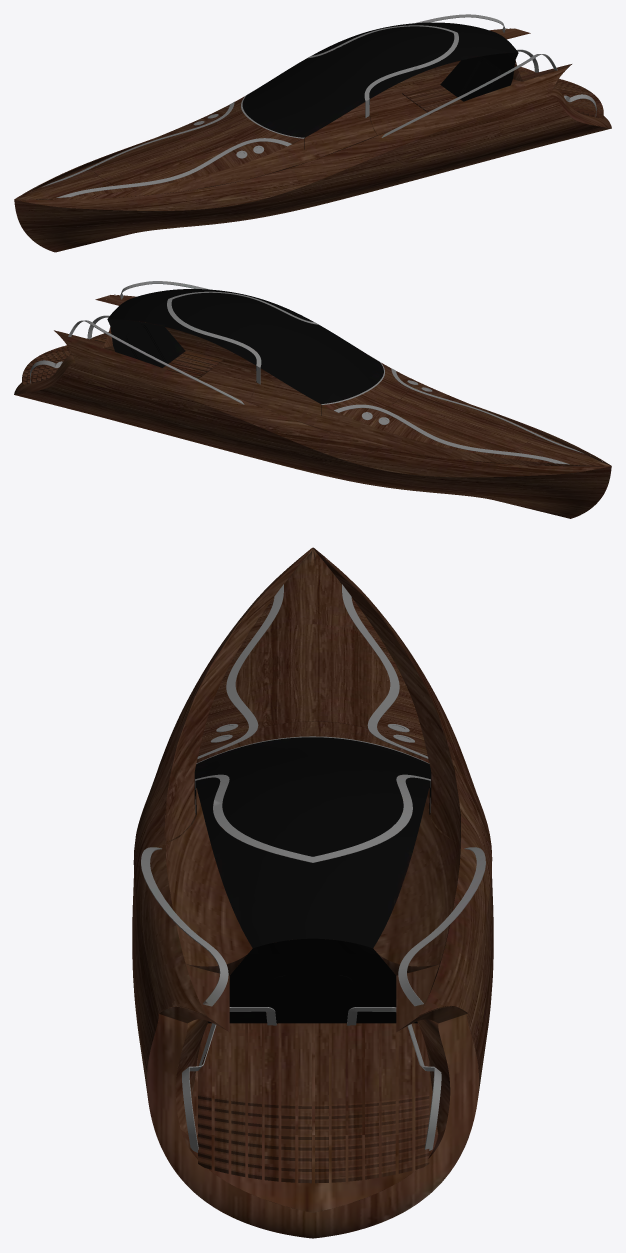
File: deco_yate.glb
3 renders of one model, top to bottom at view 1: azimuth 30°, elevation 25°; view 2: azimuth 150°, elevation 25°; view 3: azimuth 270°, elevation 25°, orthographic. The views are drawn at different scales.
Parts seen in each view (by area): view 1: Object_7, Object_4, Object_6, Object_3, Object_9, Object_2, Object_8, Object_11, Object_12; view 2: Object_7, Object_4, Object_6, Object_3, Object_9, Object_2, Object_8, Object_11, Object_12; view 3: Object_7, Object_4, Object_9, Object_6, Object_3, Object_8, Object_10, Object_2, Object_5.
Part boxes in pixels (bbox=[...]): Object_7: bbox=[14, 28, 610, 252]; Object_4: bbox=[242, 22, 518, 137]; Object_6: bbox=[15, 96, 302, 199]; Object_3: bbox=[19, 25, 521, 197]; Object_9: bbox=[14, 28, 603, 209]; Object_2: bbox=[381, 14, 596, 137]; Object_8: bbox=[491, 28, 611, 128]; Object_11: bbox=[405, 69, 603, 118]; Object_12: bbox=[42, 26, 457, 197]; Object_7: bbox=[15, 294, 611, 518]; Object_4: bbox=[107, 289, 383, 403]; Object_6: bbox=[323, 363, 610, 465]; Object_3: bbox=[104, 291, 582, 464]; Object_9: bbox=[22, 294, 611, 476]; Object_2: bbox=[30, 281, 244, 404]; Object_8: bbox=[14, 295, 135, 394]; Object_11: bbox=[22, 335, 220, 384]; Object_12: bbox=[173, 292, 583, 464]; Object_7: bbox=[132, 549, 493, 1233]; Object_4: bbox=[194, 737, 431, 953]; Object_9: bbox=[134, 548, 460, 1183]; Object_6: bbox=[196, 548, 431, 817]; Object_3: bbox=[188, 548, 437, 1134]; Object_8: bbox=[146, 954, 478, 1238]; Object_10: bbox=[175, 1013, 450, 1212]; Object_2: bbox=[141, 847, 485, 1152]; Object_5: bbox=[158, 549, 467, 1097].
Bounding box in the file's own units: 4372 × 908 × 1178.
Materials: 2 (2 with a texture image).
